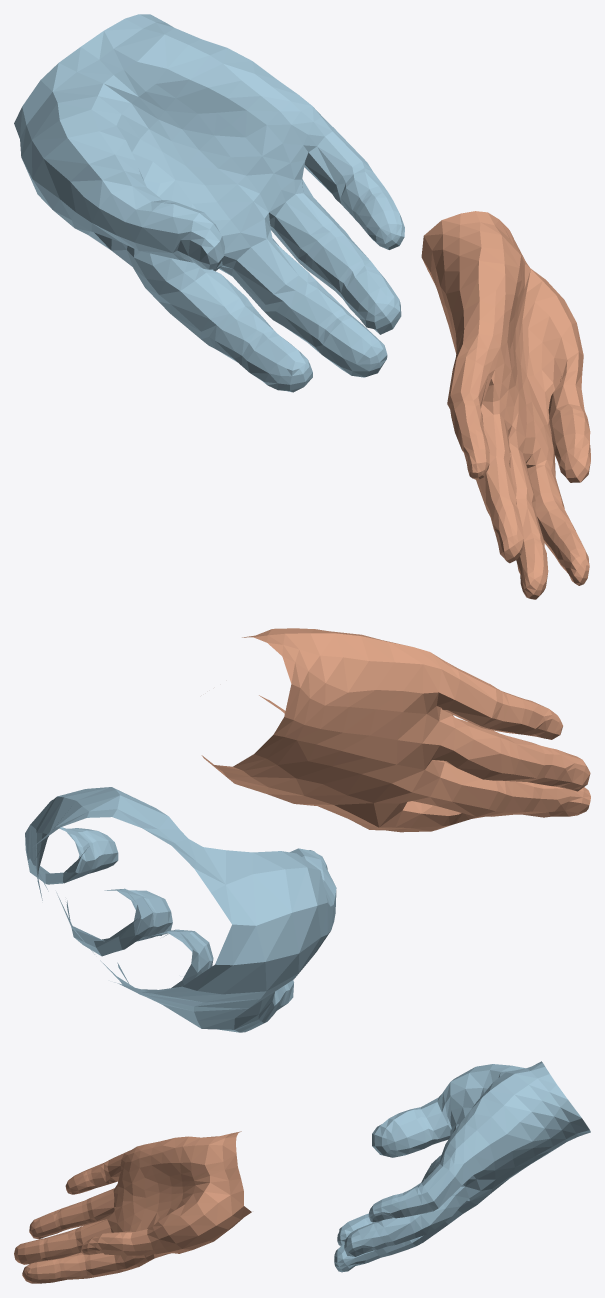
Rendered from frame_003.glb.
3 views of the same model, one above another, from view 1: azimuth 30°, elevation 25°; view 2: azimuth 150°, elevation 25°; view 3: azimuth 270°, elevation 25° (orthographic). The views are drawn at different scales.
Visible parts, largest first — view 1: world; view 2: world; view 3: world.
Part boxes in pixels (x1,y1,x2,y2): world: (14, 14, 590, 599); world: (25, 628, 590, 1032); world: (14, 1061, 590, 1283).
Bounding box in the file's own units: 0.138 × 0.126 × 0.3385.
